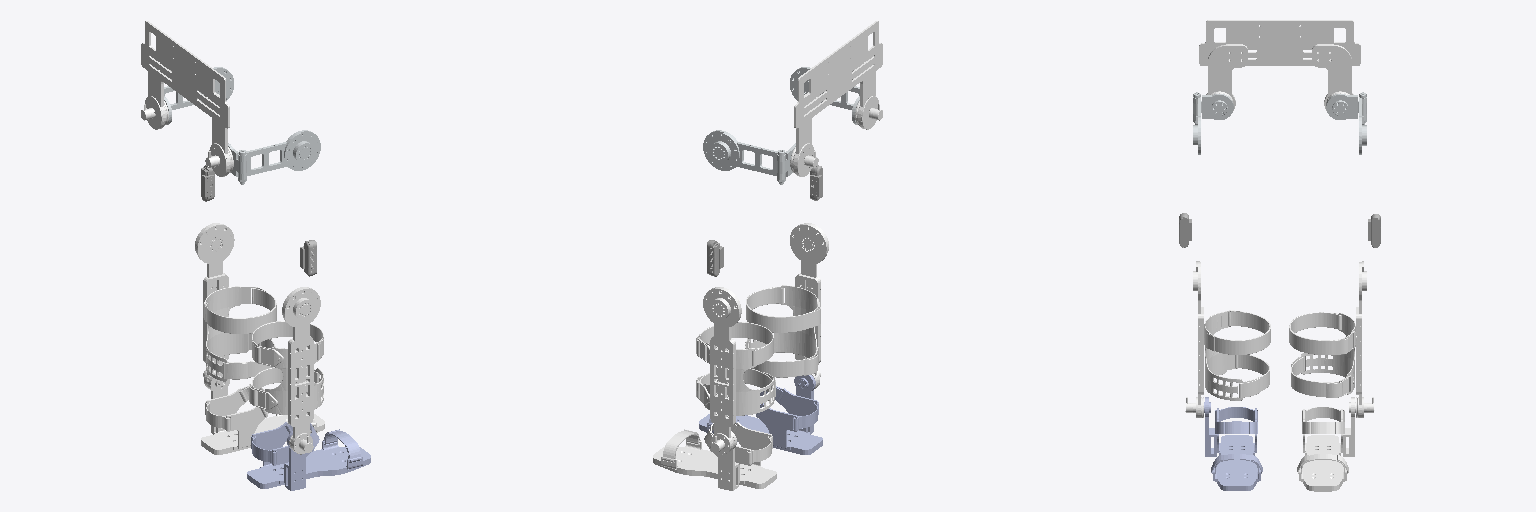
robot.urdf — robot_display:
<?xml version="1.0" encoding="utf-8"?>
<!-- This URDF was automatically created by SolidWorks to URDF Exporter! Originally created by Stephen Brawner (brawner@gmail.com) 
     Commit Version: 1.6.0-4-g7f85cfe  Build Version: 1.6.7995.38578
     For more information, please see http://wiki.ros.org/sw_urdf_exporter -->
<robot
  name="robot_display">
  <link
    name="base_link">
    <inertial>
      <origin
        xyz="0.00479528068226857 -8.68060476277854E-08 -0.0992568034946649"
        rpy="0 0 0" />
      <mass
        value="1.59224562884424" />
      <inertia
        ixx="0.00757538206248671"
        ixy="2.96069612508835E-10"
        ixz="-1.58501144614995E-08"
        iyy="0.00209511004126963"
        iyz="5.8858855605677E-09"
        izz="0.0055026704730422" />
    </inertial>
    <visual>
      <origin
        xyz="0 0 0"
        rpy="0 0 0" />
      <geometry>
        <mesh
          filename="package://robot_display/meshes/base_link.STL" />
      </geometry>
      <material
        name="">
        <color
          rgba="1 1 1 1" />
      </material>
    </visual>
    <collision>
      <origin
        xyz="0 0 0"
        rpy="0 0 0" />
      <geometry>
        <mesh
          filename="package://robot_display/meshes/base_link.STL" />
      </geometry>
    </collision>
  </link>
  <link
    name="left_hip1_link">
    <inertial>
      <origin
        xyz="0.0111654981949253 -1.25594792760308E-07 0.00526831060876312"
        rpy="0 0 0" />
      <mass
        value="0.152112715062539" />
      <inertia
        ixx="4.13487012920433E-05"
        ixy="-2.67770035250445E-11"
        ixz="-3.67641513217477E-06"
        iyy="8.95098684584839E-05"
        iyz="-5.01950333189322E-10"
        izz="0.000124177178777376" />
    </inertial>
    <visual>
      <origin
        xyz="0 0 0"
        rpy="0 0 0" />
      <geometry>
        <mesh
          filename="package://robot_display/meshes/left_hip1_link.STL" />
      </geometry>
      <material
        name="">
        <color
          rgba="0.898039215686275 0.917647058823529 0.929411764705882 1" />
      </material>
    </visual>
    <collision>
      <origin
        xyz="0 0 0"
        rpy="0 0 0" />
      <geometry>
        <mesh
          filename="package://robot_display/meshes/left_hip1_link.STL" />
      </geometry>
    </collision>
  </link>
  <joint
    name="left_hip1"
    type="revolute">
    <origin
      xyz="0.0210000000006688 0.150000000003423 -0.160787902198434"
      rpy="1.5707963267949 0 1.5707963267949" />
    <parent
      link="base_link" />
    <child
      link="left_hip1_link" />
    <axis
      xyz="0 0 1" />
    <limit
      lower="-0.5236"
      upper="0.5236"
      effort="0"
      velocity="0" />
  </joint>
  <link
    name="left_hip2_link">
    <inertial>
      <origin
        xyz="0.11513 -0.0030742 0.00072519"
        rpy="0 0 0" />
      <mass
        value="0.37976" />
      <inertia
        ixx="0.00018254"
        ixy="9.872E-06"
        ixz="-2.1341E-06"
        iyy="0.0011885"
        iyz="1.8243E-10"
        izz="0.0010135" />
    </inertial>
    <visual>
      <origin
        xyz="0 0 0"
        rpy="0 0 0" />
      <geometry>
        <mesh
          filename="package://robot_display/meshes/left_hip2_link.STL" />
      </geometry>
      <material
        name="">
        <color
          rgba="0.89804 0.91765 0.92941 1" />
      </material>
    </visual>
    <collision>
      <origin
        xyz="0 0 0"
        rpy="0 0 0" />
      <geometry>
        <mesh
          filename="package://robot_display/meshes/left_hip2_link.STL" />
      </geometry>
    </collision>
  </link>
  <joint
    name="left_hip2"
    type="revolute">
    <origin
      xyz="0.055954451150109 -0.000250000000001777 0.01"
      rpy="-1.5707963267949 -1.5707963267949 0" />
    <parent
      link="left_hip1_link" />
    <child
      link="left_hip2_link" />
    <axis
      xyz="0 0 1" />
    <limit
      lower="-1.0472"
      upper="1.0472"
      effort="0"
      velocity="0" />
  </joint>
  <link
    name="left_thigh_link">
    <inertial>
      <origin
        xyz="0.20301 -0.00025577 -0.003893"
        rpy="0 0 0" />
      <mass
        value="2.5478" />
      <inertia
        ixx="0.0032505"
        ixy="5.6728E-06"
        ixz="8.5691E-06"
        iyy="0.0053538"
        iyz="-5.1539E-05"
        izz="0.0063509" />
    </inertial>
    <visual>
      <origin
        xyz="0 0 0"
        rpy="0 0 0" />
      <geometry>
        <mesh
          filename="package://robot_display/meshes/left_thigh_link.STL" />
      </geometry>
      <material
        name="">
        <color
          rgba="0.89804 0.91765 0.92941 1" />
      </material>
    </visual>
    <collision>
      <origin
        xyz="0 0 0"
        rpy="0 0 0" />
      <geometry>
        <mesh
          filename="package://robot_display/meshes/left_thigh_link.STL" />
      </geometry>
    </collision>
  </link>
  <joint
    name="left_hip3"
    type="revolute">
    <origin
      xyz="0.16095 0.0135 0"
      rpy="1.5708 1.5708 0" />
    <parent
      link="left_hip2_link" />
    <child
      link="left_thigh_link" />
    <axis
      xyz="0 0 1" />
    <limit
      lower="-1.1519"
      upper="1.4661"
      effort="0"
      velocity="0" />
  </joint>
  <link
    name="left_camera_link">
    <inertial>
      <origin
        xyz="-0.000691099604479078 0.000686786254054328 0.0139381983323319"
        rpy="0 0 0" />
      <mass
        value="0.0697404798037741" />
      <inertia
        ixx="3.3130187539767E-05"
        ixy="4.09735406613362E-07"
        ixz="3.429234932739E-07"
        iyy="5.69739319757456E-06"
        iyz="-1.44982038846049E-09"
        izz="3.41436523363684E-05" />
    </inertial>
    <visual>
      <origin
        xyz="0 0 0"
        rpy="0 0 0" />
      <geometry>
        <mesh
          filename="package://robot_display/meshes/left_camera_link.STL" />
      </geometry>
      <material
        name="">
        <color
          rgba="0.752941176470588 0.752941176470588 0.752941176470588 1" />
      </material>
    </visual>
    <collision>
      <origin
        xyz="0 0 0"
        rpy="0 0 0" />
      <geometry>
        <mesh
          filename="package://robot_display/meshes/left_camera_link.STL" />
      </geometry>
    </collision>
  </link>
  <joint
    name="left_camera"
    type="continuous">
    <origin
      xyz="0.25999999999999 0.00010000000000665 0"
      rpy="-3.14159265358979 0 1.5707963267949" />
    <parent
      link="left_thigh_link" />
    <child
      link="left_camera_link" />
    <axis
      xyz="0 0 1" />
  </joint>
  <link
    name="left_calf_link">
    <inertial>
      <origin
        xyz="0.182653489274383 0.00318379849774056 0.021962591983722"
        rpy="0 0 0" />
      <mass
        value="1.11621990784165" />
      <inertia
        ixx="0.00177160999863454"
        ixy="1.02618261745224E-05"
        ixz="-1.11390825336338E-05"
        iyy="0.00381549875281454"
        iyz="3.01000414118073E-05"
        izz="0.00397304782389751" />
    </inertial>
    <visual>
      <origin
        xyz="0 0 0"
        rpy="0 0 0" />
      <geometry>
        <mesh
          filename="package://robot_display/meshes/left_calf_link.STL" />
      </geometry>
      <material
        name="">
        <color
          rgba="1 1 1 1" />
      </material>
    </visual>
    <collision>
      <origin
        xyz="0 0 0"
        rpy="0 0 0" />
      <geometry>
        <mesh
          filename="package://robot_display/meshes/left_calf_link.STL" />
      </geometry>
    </collision>
  </link>
  <joint
    name="left_knee"
    type="revolute">
    <origin
      xyz="0.39999999999999 0.00010000000000529 0.0154999999999984"
      rpy="0 0 0" />
    <parent
      link="left_thigh_link" />
    <child
      link="left_calf_link" />
    <axis
      xyz="0 0 1" />
    <limit
      lower="-2.5133"
      upper="0.1047"
      effort="0"
      velocity="0" />
  </joint>
  <link
    name="left_foot">
    <inertial>
      <origin
        xyz="0.0898718792816668 0.0506580037564602 0.0647388790548122"
        rpy="0 0 0" />
      <mass
        value="0.999431352085717" />
      <inertia
        ixx="0.00301791920779054"
        ixy="1.08363308669639E-05"
        ixz="-8.96469662958706E-08"
        iyy="0.00106961239212308"
        iyz="-3.73586127664104E-06"
        izz="0.0028861264916846" />
    </inertial>
    <visual>
      <origin
        xyz="0 0 0"
        rpy="0 0 0" />
      <geometry>
        <mesh
          filename="package://robot_display/meshes/left_foot.STL" />
      </geometry>
      <material
        name="">
        <color
          rgba="1 1 1 1" />
      </material>
    </visual>
    <collision>
      <origin
        xyz="0 0 0"
        rpy="0 0 0" />
      <geometry>
        <mesh
          filename="package://robot_display/meshes/left_foot.STL" />
      </geometry>
    </collision>
  </link>
  <joint
    name="left_ankle"
    type="revolute">
    <origin
      xyz="0.345999999999997 0.000100000000003042 0.017"
      rpy="0 0 0" />
    <parent
      link="left_calf_link" />
    <child
      link="left_foot" />
    <axis
      xyz="0 0 1" />
    <limit
      lower="-0.5236"
      upper="0.5236"
      effort="0"
      velocity="0" />
  </joint>
  <link
    name="right_hip1_link">
    <inertial>
      <origin
        xyz="0.0111659332646115 -1.25601048062141E-07 -0.0052683106094186"
        rpy="0 0 0" />
      <mass
        value="0.152112715062539" />
      <inertia
        ixx="4.13487012920433E-05"
        ixy="2.67770035339982E-11"
        ixz="3.67467632521508E-06"
        iyy="8.95098684584839E-05"
        iyz="5.0195033312199E-10"
        izz="0.000124177178777376" />
    </inertial>
    <visual>
      <origin
        xyz="0 0 0"
        rpy="0 0 0" />
      <geometry>
        <mesh
          filename="package://robot_display/meshes/right_hip1_link.STL" />
      </geometry>
      <material
        name="">
        <color
          rgba="0.898039215686275 0.917647058823529 0.929411764705882 1" />
      </material>
    </visual>
    <collision>
      <origin
        xyz="0 0 0"
        rpy="0 0 0" />
      <geometry>
        <mesh
          filename="package://robot_display/meshes/right_hip1_link.STL" />
      </geometry>
    </collision>
  </link>
  <joint
    name="right_hip1"
    type="revolute">
    <origin
      xyz="0.0209999999999961 -0.150000000000026 -0.160787902192173"
      rpy="1.5707963267949 0 -1.5707963267949" />
    <parent
      link="base_link" />
    <child
      link="right_hip1_link" />
    <axis
      xyz="0 0 1" />
    <limit
      lower="-0.5236"
      upper="0.5236"
      effort="0"
      velocity="0" />
  </joint>
  <link
    name="right_hip2_link">
    <inertial>
      <origin
        xyz="0.115125046088541 -0.00307421047234735 -0.000726327483052736"
        rpy="0 0 0" />
      <mass
        value="0.379764138479359" />
      <inertia
        ixx="0.000182541594934979"
        ixy="9.87202145773953E-06"
        ixz="2.13408353116433E-06"
        iyy="0.00118845309295667"
        iyz="-1.82426404948299E-10"
        izz="0.00101353333002483" />
    </inertial>
    <visual>
      <origin
        xyz="0 0 0"
        rpy="0 0 0" />
      <geometry>
        <mesh
          filename="package://robot_display/meshes/right_hip2_link.STL" />
      </geometry>
      <material
        name="">
        <color
          rgba="0.898039215686275 0.917647058823529 0.929411764705882 1" />
      </material>
    </visual>
    <collision>
      <origin
        xyz="0 0 0"
        rpy="0 0 0" />
      <geometry>
        <mesh
          filename="package://robot_display/meshes/right_hip2_link.STL" />
      </geometry>
    </collision>
  </link>
  <joint
    name="right_hip2"
    type="revolute">
    <origin
      xyz="0.0559544511500931 -0.00025000000137021 -0.01"
      rpy="1.57079632679493 1.5707963267949 0" />
    <parent
      link="right_hip1_link" />
    <child
      link="right_hip2_link" />
    <axis
      xyz="0 0 1" />
    <limit
      lower="-1.0472"
      upper="1.0472"
      effort="0"
      velocity="0" />
  </joint>
  <link
    name="right_thigh_link">
    <inertial>
      <origin
        xyz="0.20301 0.00025577 0.0035932"
        rpy="0 0 0" />
      <mass
        value="2.5748" />
      <inertia
        ixx="0.0032575"
        ixy="-4.8131E-06"
        ixz="-9.4397E-06"
        iyy="0.0053446"
        iyz="-5.0821E-05"
        izz="0.0063724" />
    </inertial>
    <visual>
      <origin
        xyz="0 0 0"
        rpy="0 0 0" />
      <geometry>
        <mesh
          filename="package://robot_display/meshes/right_thigh_link.STL" />
      </geometry>
      <material
        name="">
        <color
          rgba="1 1 1 1" />
      </material>
    </visual>
    <collision>
      <origin
        xyz="0 0 0"
        rpy="0 0 0" />
      <geometry>
        <mesh
          filename="package://robot_display/meshes/right_thigh_link.STL" />
      </geometry>
    </collision>
  </link>
  <joint
    name="right_hip3"
    type="revolute">
    <origin
      xyz="0.16095 0.0135 0"
      rpy="-1.5708 -1.5708 0" />
    <parent
      link="right_hip2_link" />
    <child
      link="right_thigh_link" />
    <axis
      xyz="0 0 1" />
    <limit
      lower="-1.1519"
      upper="1.4661"
      effort="0"
      velocity="0" />
  </joint>
  <link
    name="right_camera_link">
    <inertial>
      <origin
        xyz="-0.0006911 -0.00068679 -0.013938"
        rpy="0 0 0" />
      <mass
        value="0.06974" />
      <inertia
        ixx="3.313E-05"
        ixy="-4.0974E-07"
        ixz="-3.4292E-07"
        iyy="5.6974E-06"
        iyz="-1.4498E-09"
        izz="3.4144E-05" />
    </inertial>
    <visual>
      <origin
        xyz="0 0 0"
        rpy="0 0 0" />
      <geometry>
        <mesh
          filename="package://robot_display/meshes/right_camera_link.STL" />
      </geometry>
      <material
        name="">
        <color
          rgba="0.75294 0.75294 0.75294 1" />
      </material>
    </visual>
    <collision>
      <origin
        xyz="0 0 0"
        rpy="0 0 0" />
      <geometry>
        <mesh
          filename="package://robot_display/meshes/right_camera_link.STL" />
      </geometry>
    </collision>
  </link>
  <joint
    name="right_camera"
    type="continuous">
    <origin
      xyz="0.259999999999991 -9.99999999744539E-05 0"
      rpy="-3.14159265358979 0 1.5707963267949" />
    <parent
      link="right_thigh_link" />
    <child
      link="right_camera_link" />
    <axis
      xyz="0 0 1" />
  </joint>
  <link
    name="right_calf_link">
    <inertial>
      <origin
        xyz="0.182297640175855 0.00178944026808531 -0.0224512177782332"
        rpy="0 0 0" />
      <mass
        value="1.11621559367994" />
      <inertia
        ixx="0.00177138843376573"
        ixy="-6.32805789960014E-06"
        ixz="6.80608526666355E-06"
        iyy="0.00376320311866028"
        iyz="6.39135201052936E-05"
        izz="0.00402497364028617" />
    </inertial>
    <visual>
      <origin
        xyz="0 0 0"
        rpy="0 0 0" />
      <geometry>
        <mesh
          filename="package://robot_display/meshes/right_calf_link.STL" />
      </geometry>
      <material
        name="">
        <color
          rgba="1 1 1 1" />
      </material>
    </visual>
    <collision>
      <origin
        xyz="0 0 0"
        rpy="0 0 0" />
      <geometry>
        <mesh
          filename="package://robot_display/meshes/right_calf_link.STL" />
      </geometry>
    </collision>
  </link>
  <joint
    name="right_knee"
    type="revolute">
    <origin
      xyz="0.399999999994996 -0.000100000000398198 -0.0154999999984798"
      rpy="0 0 0" />
    <parent
      link="right_thigh_link" />
    <child
      link="right_calf_link" />
    <axis
      xyz="0 0 1" />
    <limit
      lower="-2.5133"
      upper="0.1047"
      effort="0"
      velocity="0" />
  </joint>
  <link
    name="right_foot_link">
    <inertial>
      <origin
        xyz="0.0898718377917411 0.0506580210156414 -0.064739281057305"
        rpy="0 0 0" />
      <mass
        value="0.999431919976939" />
      <inertia
        ixx="0.0030179193270382"
        ixy="1.08363770648769E-05"
        ixz="7.48694066917176E-08"
        iyy="0.00106961244207384"
        iyz="3.73583280811463E-06"
        izz="0.00288612665828962" />
    </inertial>
    <visual>
      <origin
        xyz="0 0 0"
        rpy="0 0 0" />
      <geometry>
        <mesh
          filename="package://robot_display/meshes/right_foot_link.STL" />
      </geometry>
      <material
        name="">
        <color
          rgba="0.792156862745098 0.819607843137255 0.933333333333333 1" />
      </material>
    </visual>
    <collision>
      <origin
        xyz="0 0 0"
        rpy="0 0 0" />
      <geometry>
        <mesh
          filename="package://robot_display/meshes/right_foot_link.STL" />
      </geometry>
    </collision>
  </link>
  <joint
    name="right_ankle"
    type="revolute">
    <origin
      xyz="0.346000000000043 9.99999997232381E-05 -0.0170000000012193"
      rpy="0 0 0" />
    <parent
      link="right_calf_link" />
    <child
      link="right_foot_link" />
    <axis
      xyz="0 0 1" />
    <limit
      lower="-0.5236"
      upper="0.5236"
      effort="0"
      velocity="0" />
  </joint>
</robot>

--- Facts derived from the render (not from the file) ---
The picture shows the robot from 3 angles, left to right: view 1: azimuth 30°, elevation 25°; view 2: azimuth 150°, elevation 25°; view 3: azimuth 270°, elevation 25°; orthographic projection.
Model robot_display with 13 links and 12 joints (10 revolute, 2 continuous), rooted at base_link, posed all joints at 0.
Visible links, largest first — view 1: right_calf_link, left_calf_link, base_link, right_foot_link, left_foot, right_hip2_link, left_hip2_link, right_camera_link; view 2: left_calf_link, right_calf_link, base_link, left_foot, right_foot_link, left_hip2_link, right_hip2_link, left_camera_link; view 3: base_link, right_calf_link, left_calf_link, left_foot, right_foot_link, left_hip1_link, right_hip1_link.
Link boxes in pixels (<box>): right_calf_link: <box>249,287,323,454</box>; left_calf_link: <box>195,223,276,388</box>; base_link: <box>141,21,233,176</box>; right_foot_link: <box>247,422,370,490</box>; left_foot: <box>201,372,324,454</box>; right_hip2_link: <box>238,130,320,184</box>; left_hip2_link: <box>164,67,233,109</box>; right_camera_link: <box>300,240,316,276</box>; left_calf_link: <box>696,287,775,454</box>; right_calf_link: <box>745,223,828,388</box>; base_link: <box>790,21,882,176</box>; left_foot: <box>653,422,776,490</box>; right_foot_link: <box>699,375,822,454</box>; left_hip2_link: <box>703,130,785,184</box>; right_hip2_link: <box>790,67,859,109</box>; left_camera_link: <box>707,240,723,276</box>; base_link: <box>1199,20,1360,110</box>; right_calf_link: <box>1185,261,1270,417</box>; left_calf_link: <box>1289,261,1374,417</box>; left_foot: <box>1297,397,1355,491</box>; right_foot_link: <box>1204,397,1262,490</box>; left_hip1_link: <box>1326,94,1366,119</box>; right_hip1_link: <box>1193,94,1233,119</box>.
Bounding box of the posed robot: 0.4467 × 0.5009 × 1.09 m (x, y, z).
11 mesh visuals loaded from 13 distinct referenced files (11 binary STL); not drawn: 2 (reference not matched to a file when rendering).
